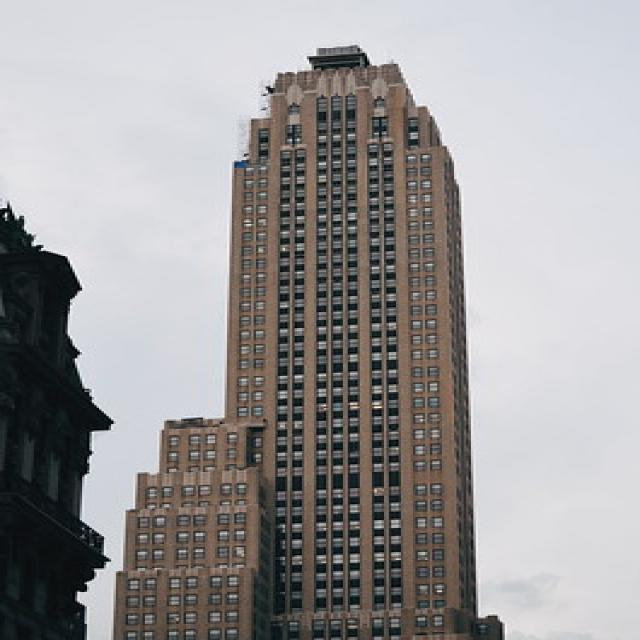Normal_building: (215, 35, 485, 640), (105, 416, 269, 640)
